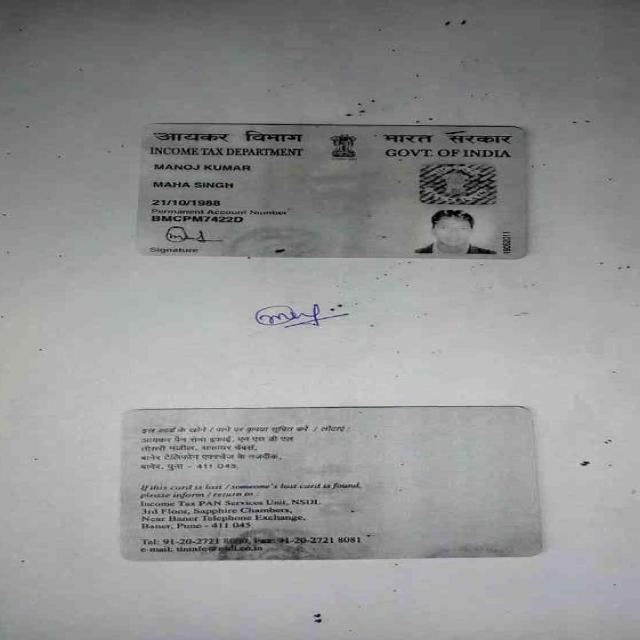pan_card: (124, 406, 539, 560), (139, 124, 528, 261)
